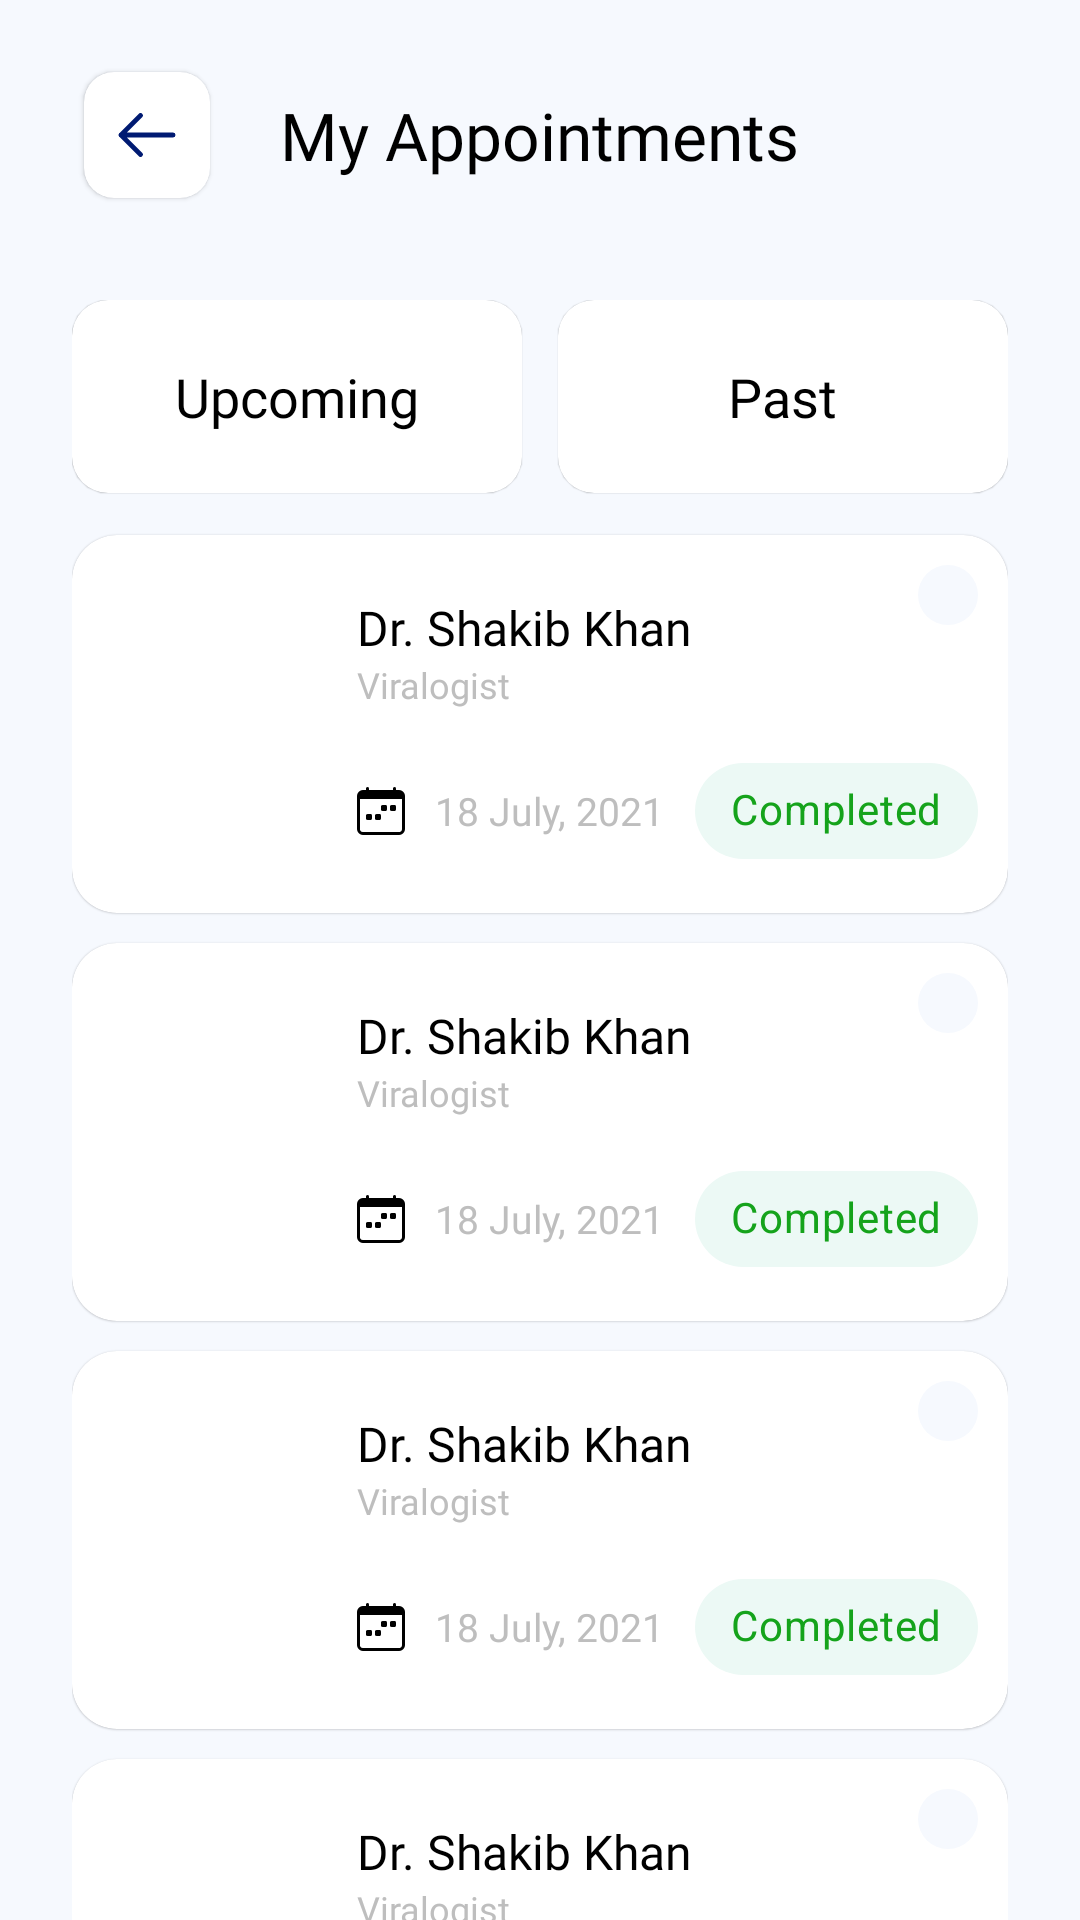

Icon bounding boxes for this 1080 x 1920 phone screenshot, format {"x1": x1, "y1": y1, "x2": x2, "y2": y2}:
arrow left: {"x1": 84, "y1": 72, "x2": 210, "y2": 198}
calendar week: {"x1": 357, "y1": 787, "x2": 405, "y2": 835}, {"x1": 357, "y1": 1195, "x2": 405, "y2": 1243}, {"x1": 357, "y1": 1603, "x2": 405, "y2": 1651}
